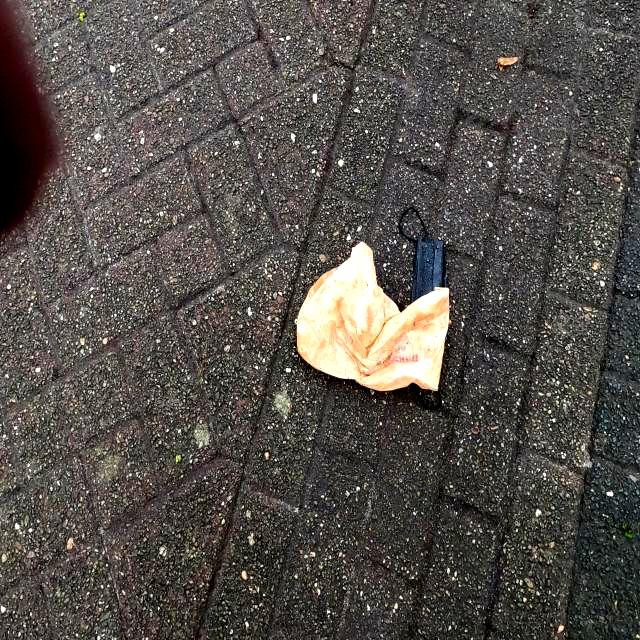Mask: (398, 205, 458, 301)
